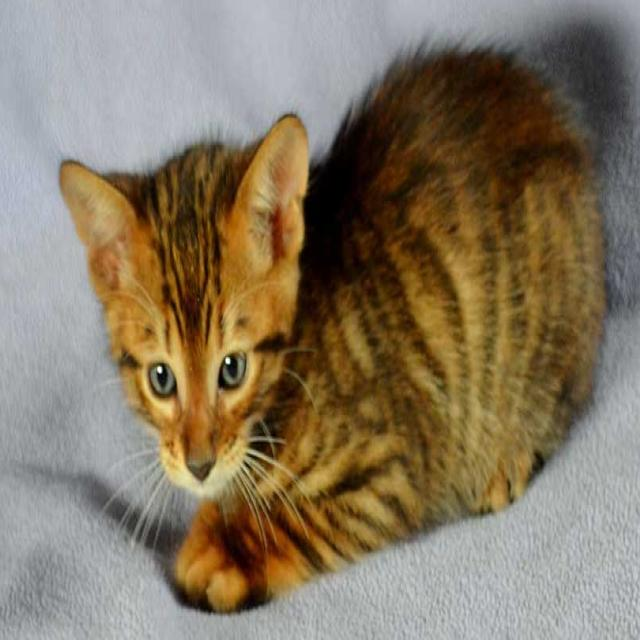Toyger: (57, 36, 608, 618)
